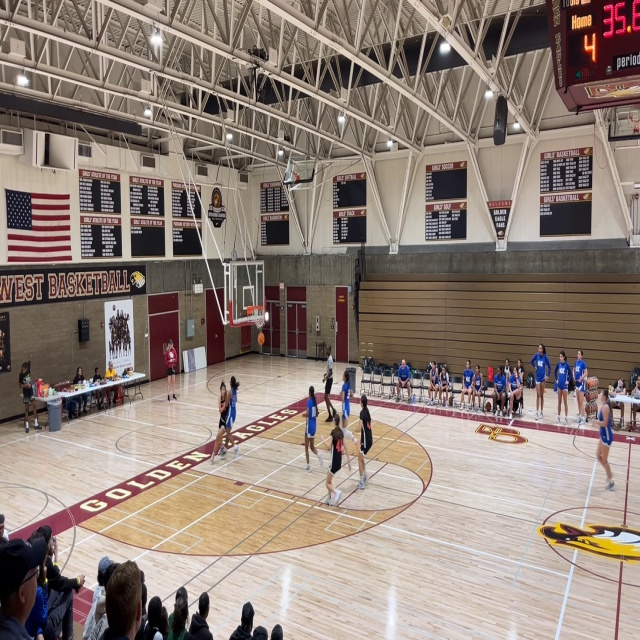Basketball: (257, 333, 265, 345)
